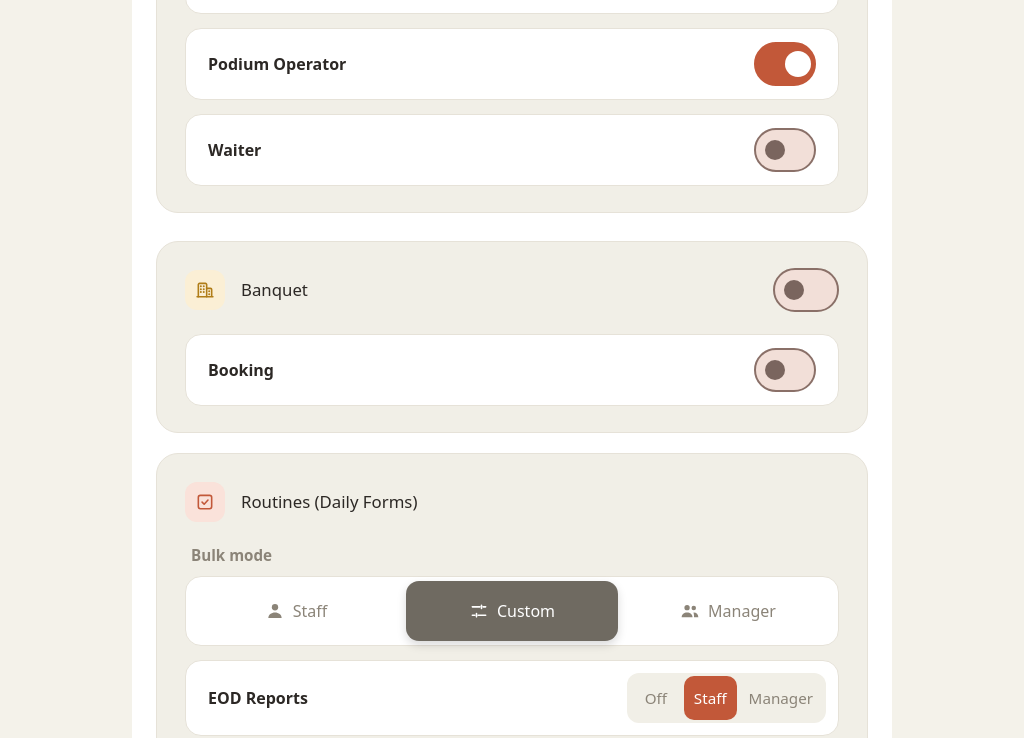
it: User Management — editing a user › starts from what the user has today, and saves the change
(page scrolled)
Click the switch named "Booking" at [785, 370], box x1=754 y1=348 x2=816 y2=392
(page scrolled)
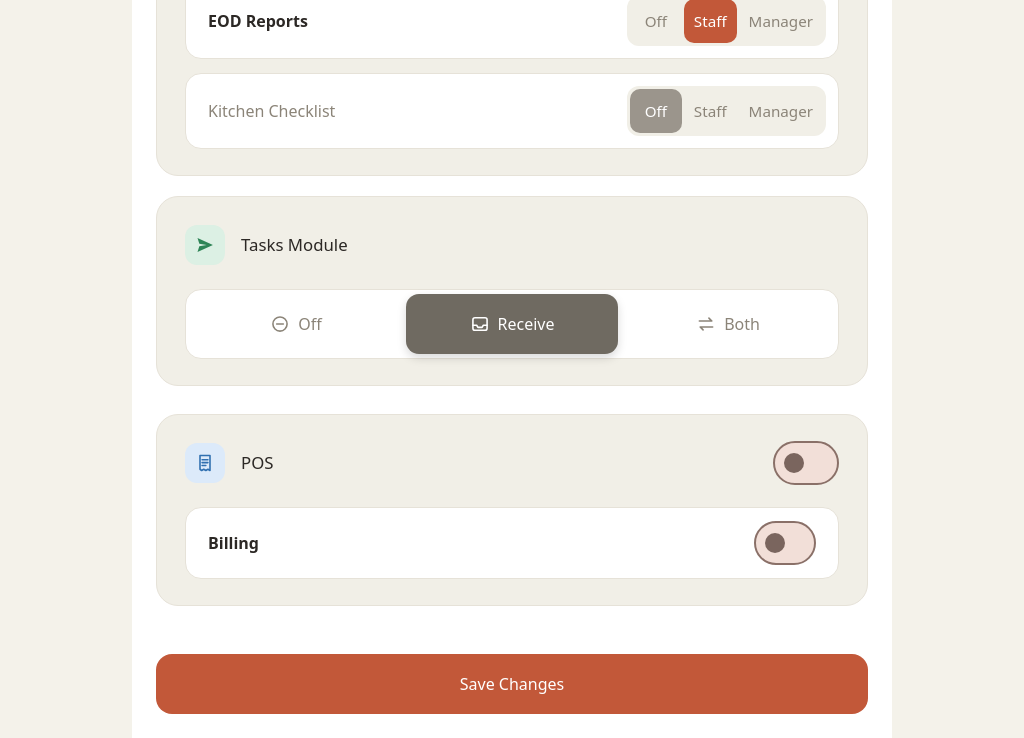
Click the button "Save Changes" at [512, 684], box x1=156 y1=654 x2=868 y2=714
(page scrolled)
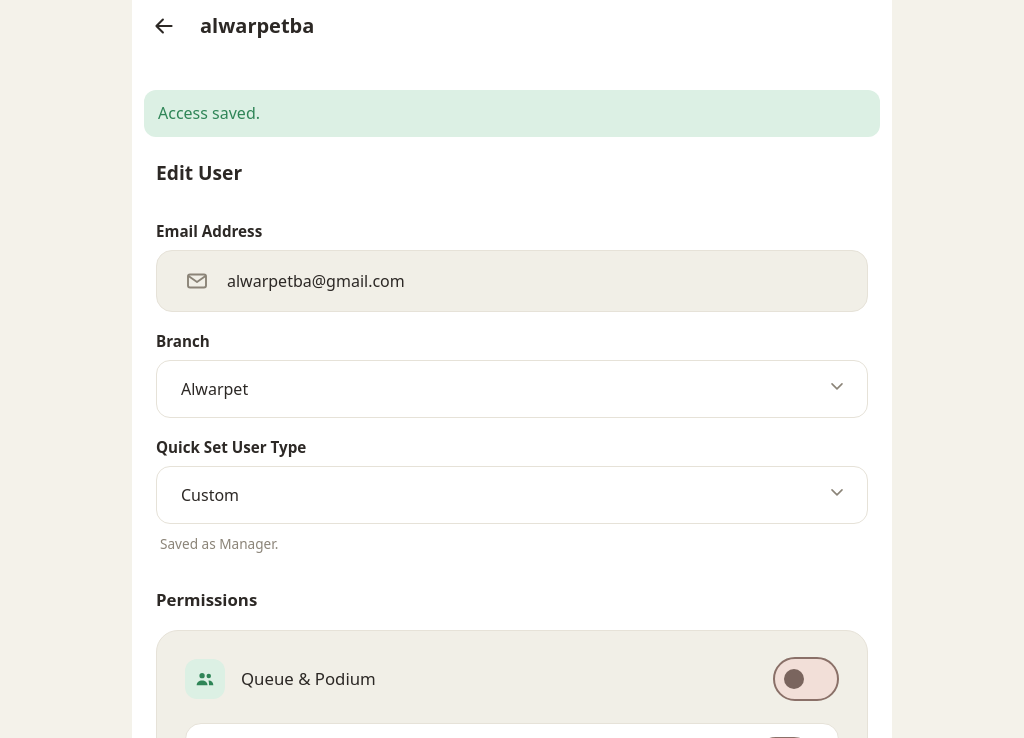
Result: the text "Access saved." is shown at x1=144 y1=90 x2=880 y2=137
